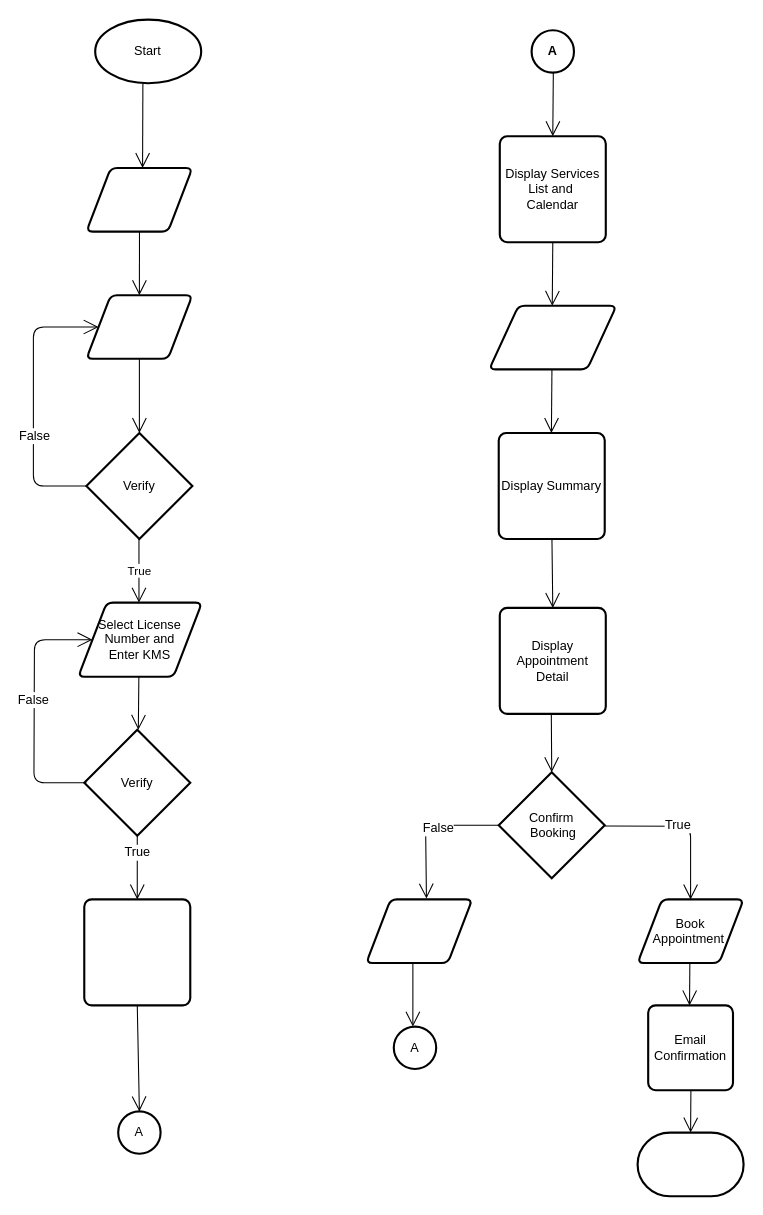
The diagram is 763 pixels wide and 1215 high, and some of its shapes have lost their labels. Each missing label, with the centre of its shape:
Display Model and Brand: [137,952]
Edit Service Details: [419,931]
End: [690,1164]
Enter Email: [139,199]
Enter OTP: [139,326]
Select Service and Day: [552,337]
